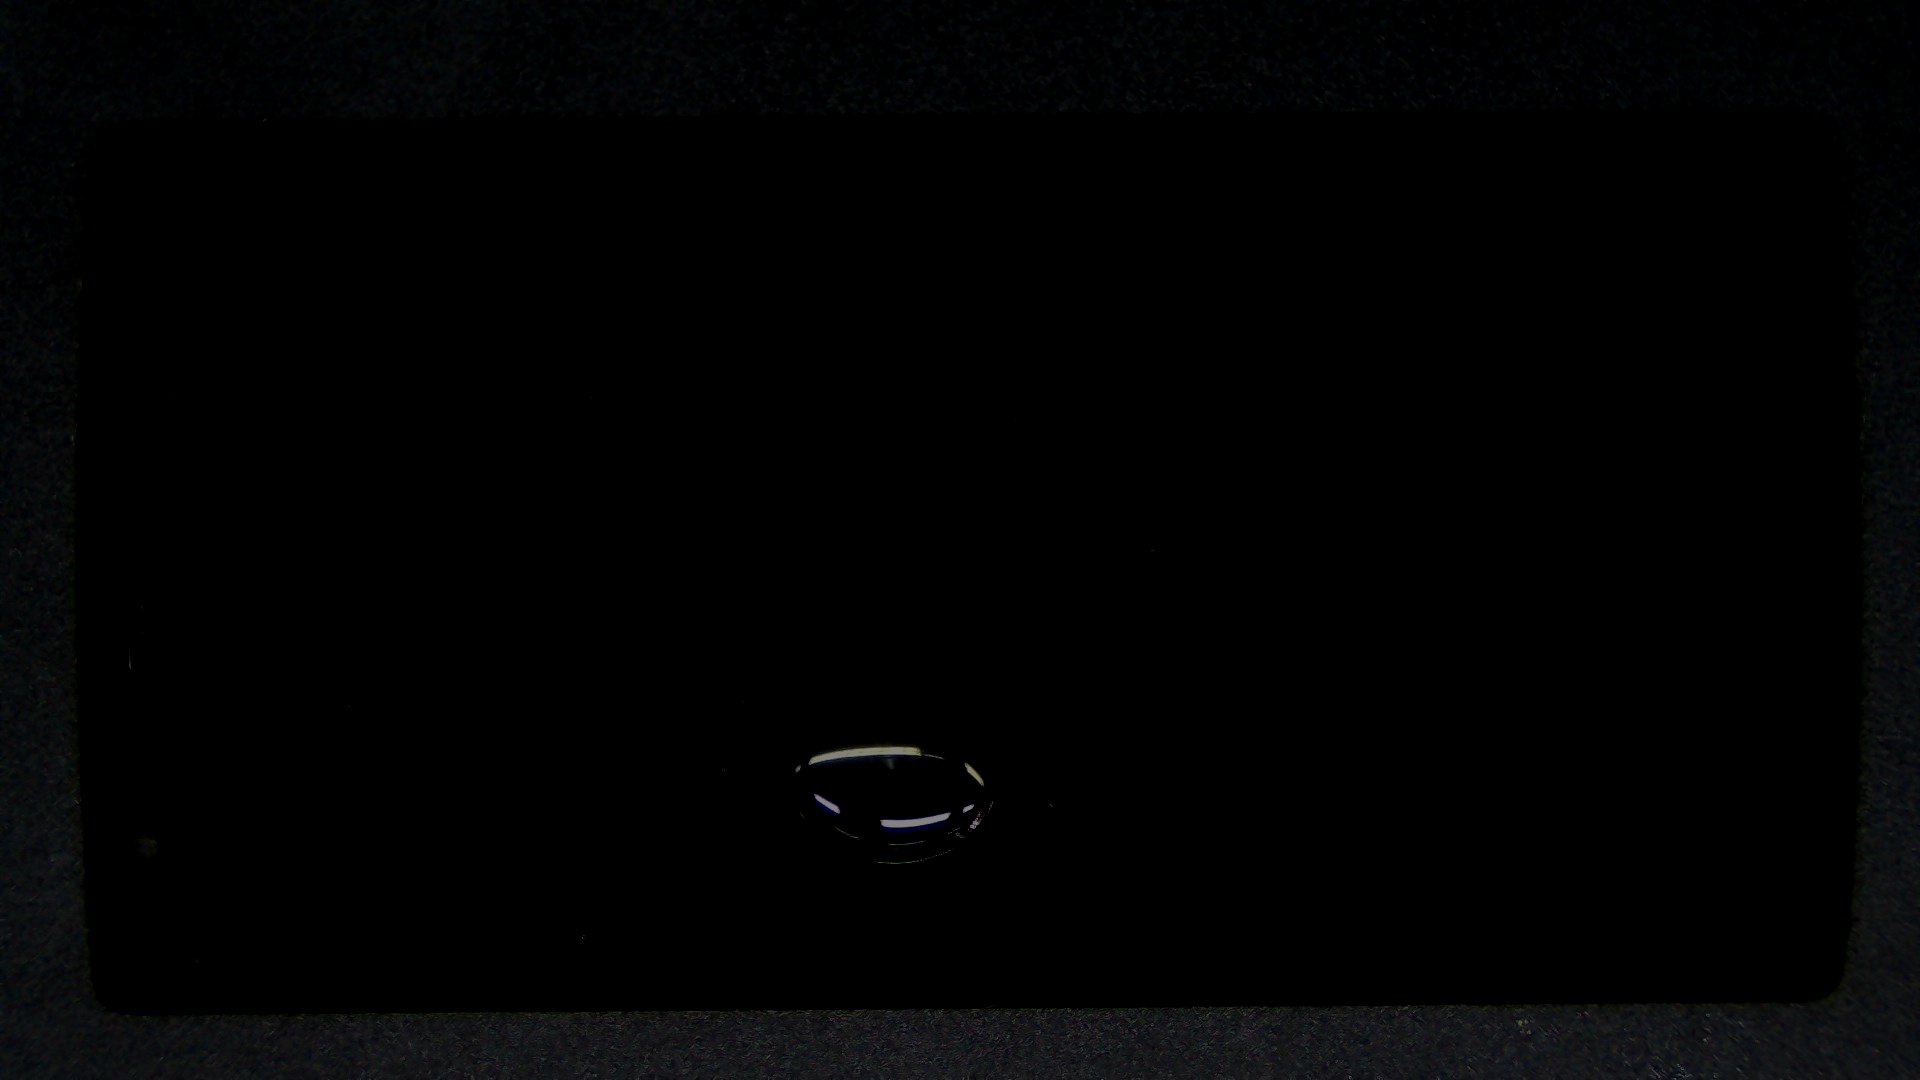oil: (448, 364, 1344, 1080)
